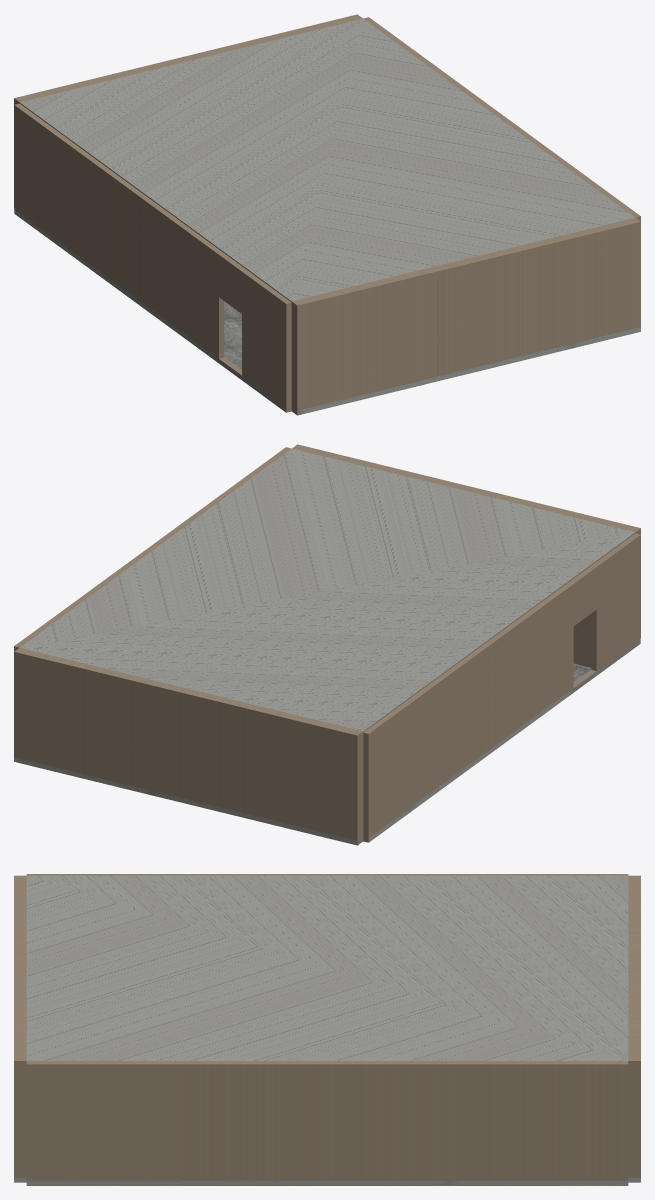
The model's file is LABIAFINAL.fbx.
The picture shows the model from 3 angles, top to bottom: view 1: azimuth 30°, elevation 25°; view 2: azimuth 150°, elevation 25°; view 3: azimuth 270°, elevation 25°; orthographic projection. The views are drawn at different scales.
Visible parts, largest first — view 1: TECHOO, AULA, PISO; view 2: TECHOO, AULA, PISO; view 3: TECHOO, AULA, PISO.
Boxes of the visible parts, bbox=[...] form: TECHOO: bbox=[20, 18, 634, 301]; AULA: bbox=[14, 14, 640, 412]; PISO: bbox=[14, 209, 640, 415]; TECHOO: bbox=[20, 448, 634, 731]; AULA: bbox=[14, 444, 640, 844]; PISO: bbox=[14, 634, 640, 845]; TECHOO: bbox=[26, 875, 628, 1060]; AULA: bbox=[14, 874, 640, 1180]; PISO: bbox=[14, 1177, 640, 1185].
Bounding box in the file's own units: 2066 × 612 × 2859.
